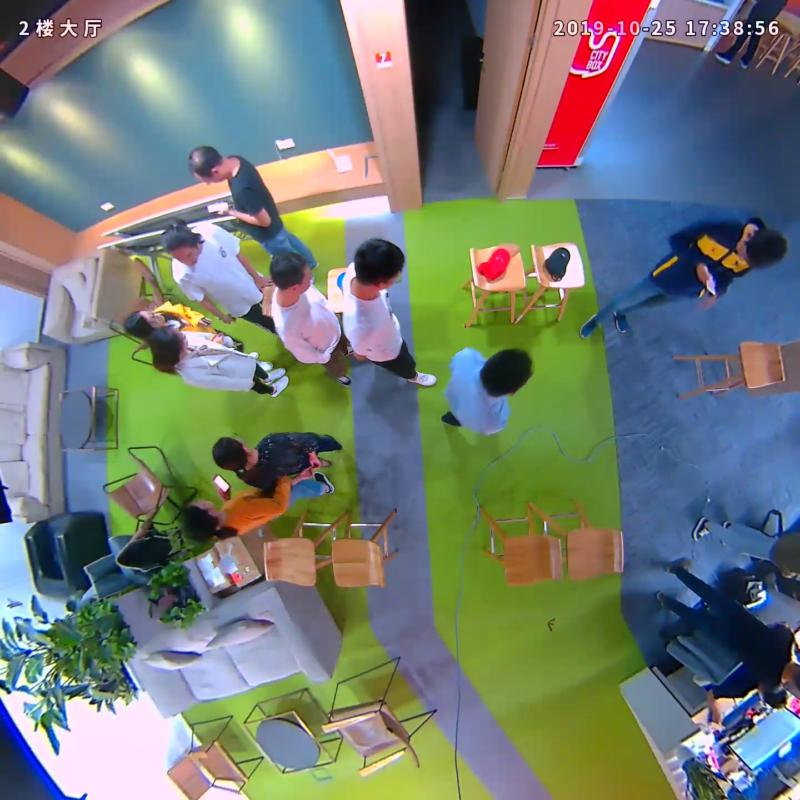head: (353, 239, 405, 291), (480, 349, 533, 397), (734, 226, 788, 267), (269, 251, 311, 294), (180, 497, 218, 542), (159, 225, 199, 266), (147, 328, 188, 367), (187, 144, 227, 183), (211, 435, 248, 472), (122, 309, 167, 334)
